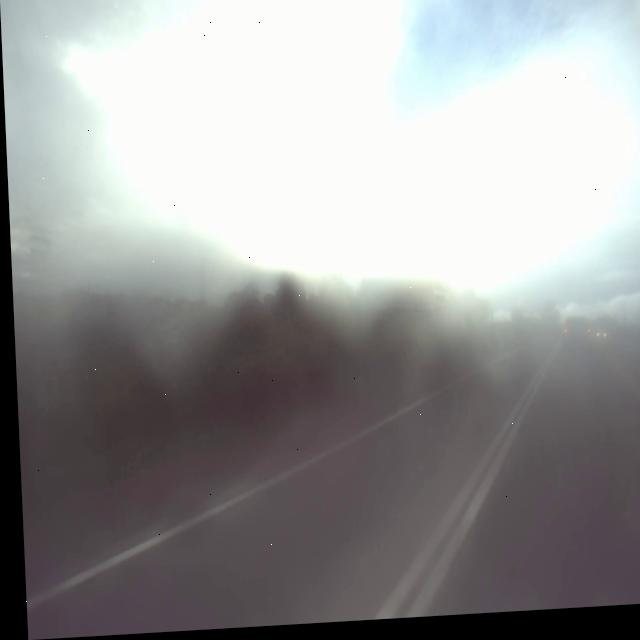car: (554, 317, 592, 366)
